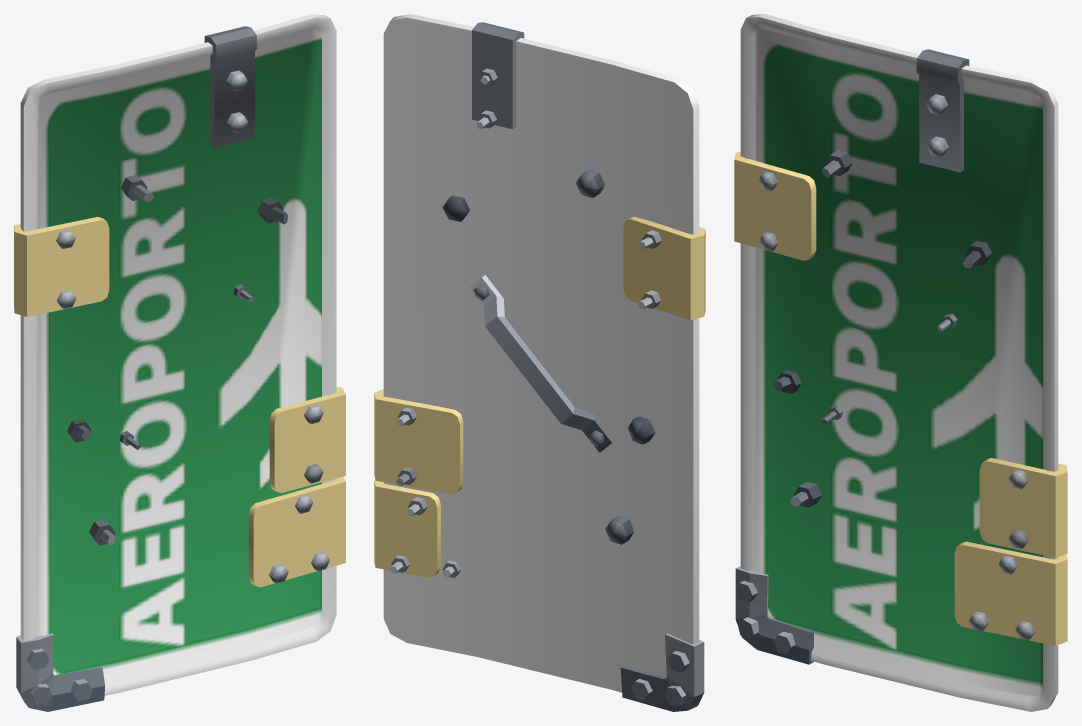
The model's file is placa_escudo_pacote.glb.
The picture shows the model from 3 angles, left to right: view 1: azimuth 30°, elevation 25°; view 2: azimuth 150°, elevation 25°; view 3: azimuth 330°, elevation 25°; orthographic projection.
Visible parts, largest first — view 1: placa_escudo_pacote; view 2: placa_escudo_pacote; view 3: placa_escudo_pacote.
Boxes of the visible parts, x1,y1,x2,y2 form: placa_escudo_pacote: (14,14,345,711); placa_escudo_pacote: (374,14,705,711); placa_escudo_pacote: (734,14,1067,711).
Size of the model in its own units: 0.7815 by 1.44 by 0.1585.
2 materials, 2 textured.
